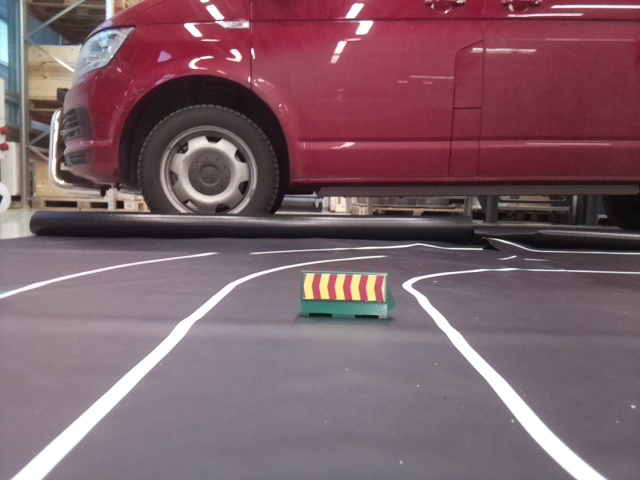ClosedRoadStand: (301, 271, 388, 318)
